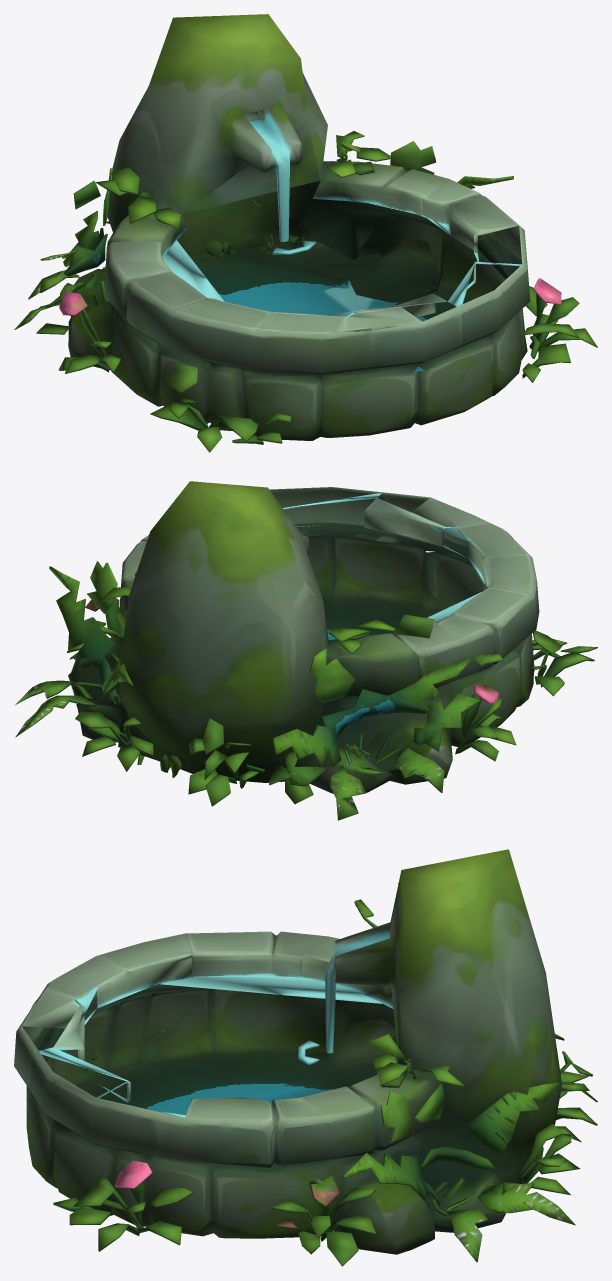
The picture shows the model from 3 angles, top to bottom: view 1: azimuth 30°, elevation 25°; view 2: azimuth 150°, elevation 25°; view 3: azimuth 270°, elevation 25°; orthographic projection. The views are drawn at different scales.
Visible parts, largest first — view 1: spring; view 2: spring; view 3: spring.
Part boxes in pixels (left/top/right/bottom): spring: left=14, top=14, right=597, bottom=452; spring: left=14, top=481, right=597, bottom=820; spring: left=14, top=849, right=597, bottom=1266.
Size of the model in its own units: 0.998 by 0.5499 by 0.9883.
Materials: 1 (1 with a texture image).
